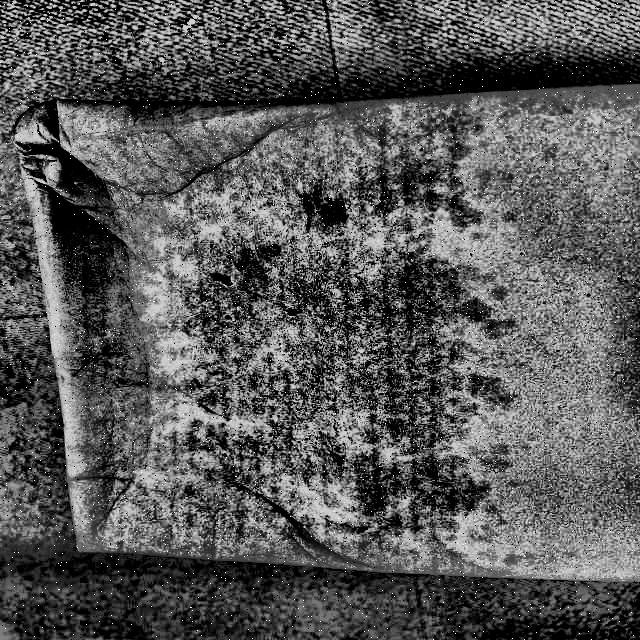box: (9, 84, 640, 582)
wet: (46, 103, 488, 567)
